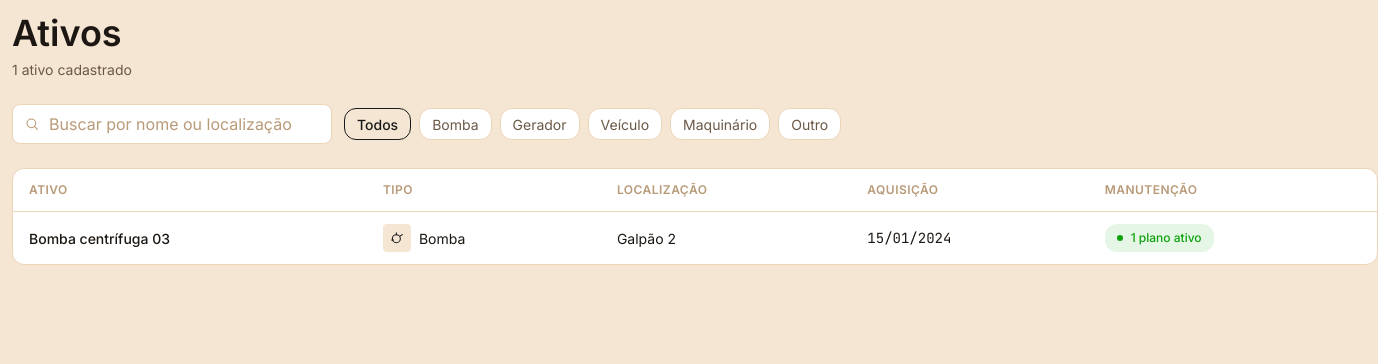
Test: AtivosPage › filters the list by the search term
Expected: the link "Bomba centrífuga 03" is shown, [29,230,170,247]
In the search field named "Buscar ativos": point(172, 124) [12,104,332,144], type "gerador"
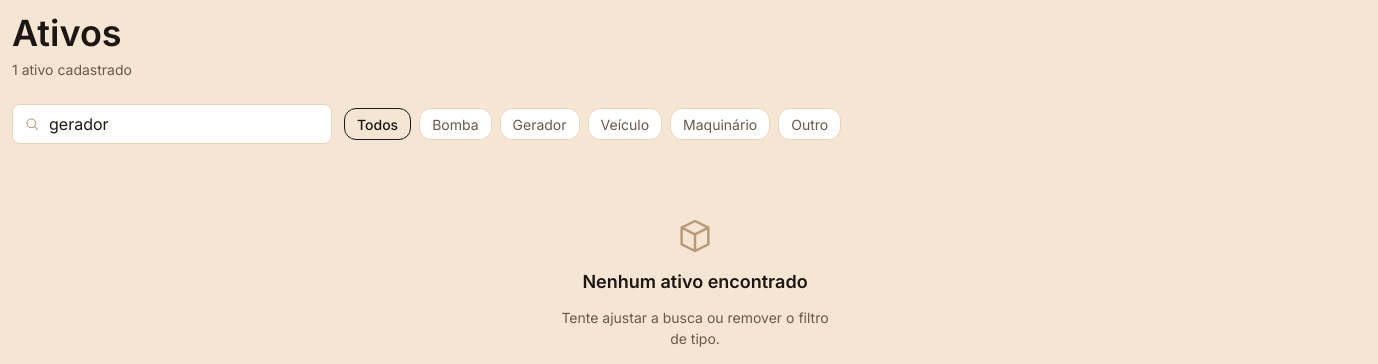
Now the text "Nenhum ativo encontrado" is shown, box [582,268,808,295]
